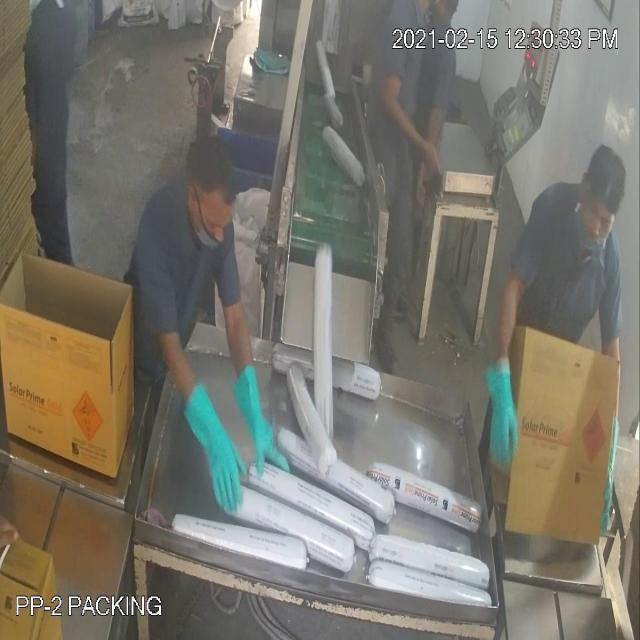No_Gloves: (33, 116, 503, 446)
